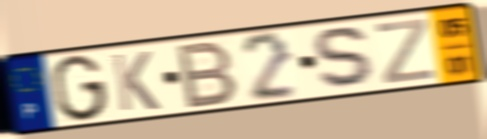2: (239, 30, 304, 107)
B: (175, 37, 240, 111)
G: (50, 53, 110, 124)
K: (109, 49, 162, 114)
S: (310, 24, 381, 92)
Z: (373, 15, 436, 86)
